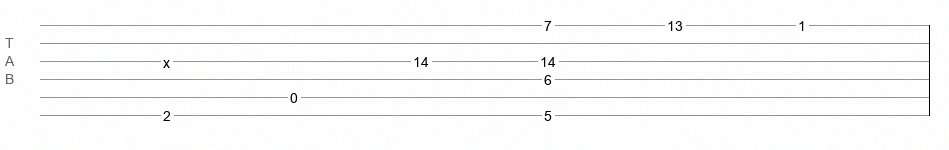0: (290, 90, 298, 100)
1: (798, 18, 806, 28)
13: (667, 18, 683, 28)
14: (413, 54, 429, 64), (540, 54, 556, 64)
2: (163, 108, 171, 118)
5: (544, 108, 552, 118)
6: (544, 72, 552, 82)
7: (544, 18, 552, 28)
x: (163, 55, 170, 63)
